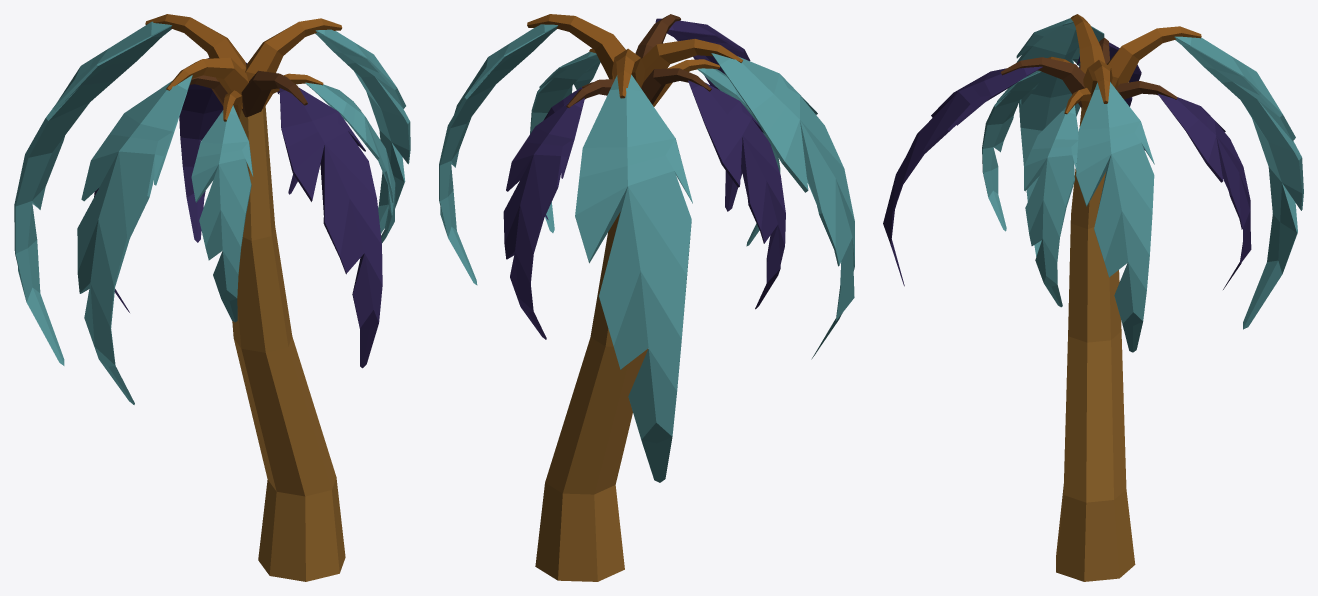
File: Boom fixed2.fbx
The picture shows the model from 3 angles, left to right: view 1: azimuth 30°, elevation 25°; view 2: azimuth 150°, elevation 25°; view 3: azimuth 270°, elevation 25°; orthographic projection. The views are drawn at different scales.
Visible parts, largest first — view 1: Kleine palmboom; view 2: Kleine palmboom; view 3: Kleine palmboom.
Part boxes in pixels (<box>): Kleine palmboom: <box>14,14,410,581</box>; Kleine palmboom: <box>439,14,854,581</box>; Kleine palmboom: <box>883,14,1303,581</box>.
Bounding box in the file's own units: 361 × 525 × 399.
